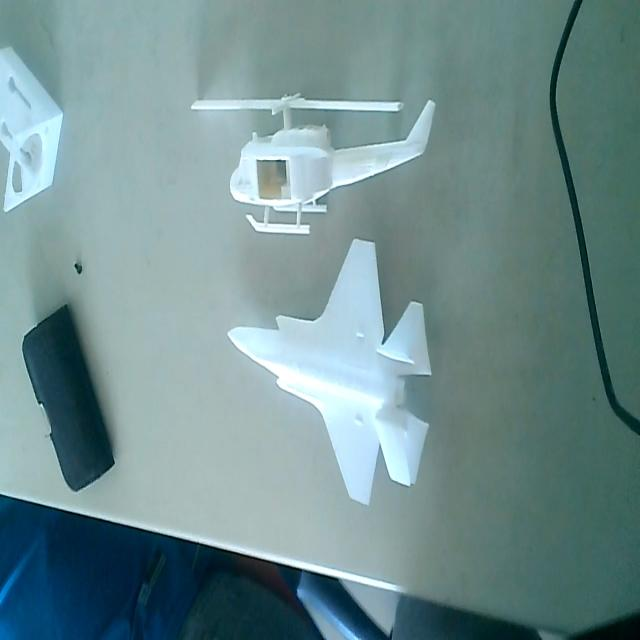Helicopter: (188, 85, 437, 236)
Jet: (228, 235, 433, 506)
